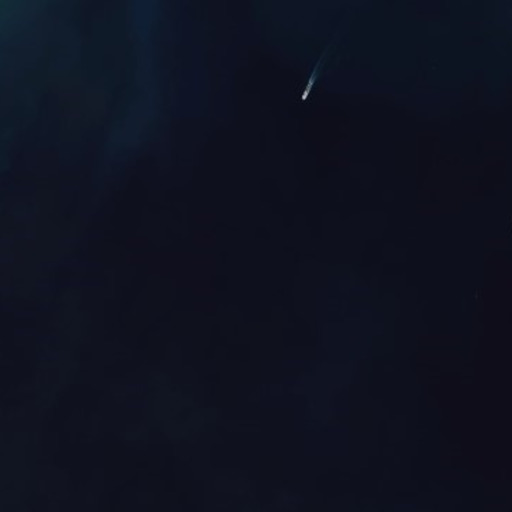ship: (298, 87, 311, 102)
